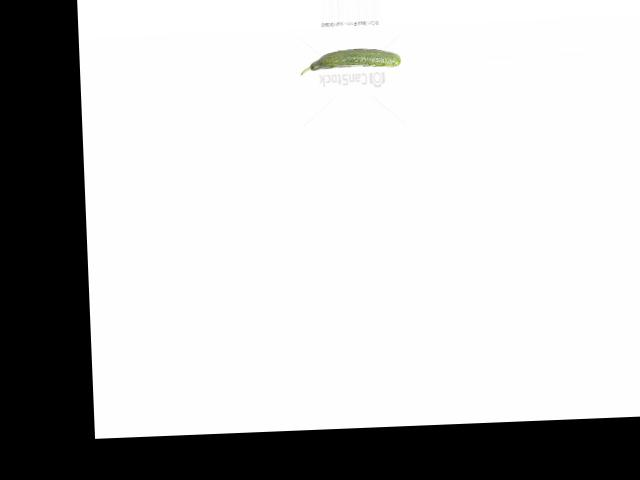cucumber: (298, 46, 400, 75)
